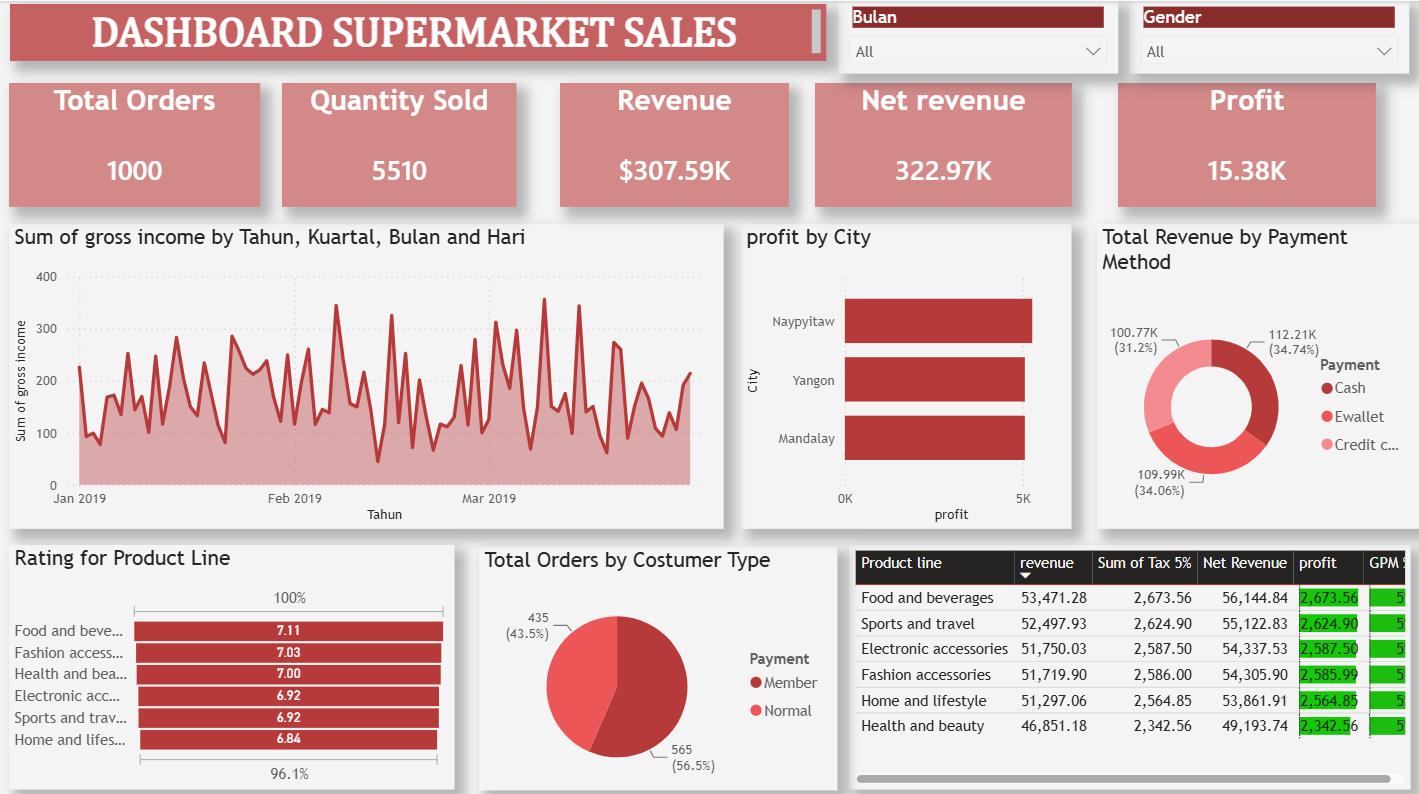

This screenshot's page, from the dashboard's own definition file:
{"tool":"powerbi","page":{"name":"Halaman 1","canvas":[1280,720],"ordinal":0},"visuals":[{"type":"tableEx","fields":{"Values":["SuperMarket Analysis (2).Product line","SuperMarket Analysis (2).revenue","Sum(SuperMarket Analysis (2).Tax 5%)","SuperMarket Analysis (2).Net Revenue","SuperMarket Analysis (2).profit","SuperMarket Analysis (2).GPM %"]},"box":[763.8,487.5,502.5,218.8],"z":0},{"type":"pieChart","title":"Total Orders by Costumer Type","fields":{"Category":["SuperMarket Analysis (2).Customer type"],"Y":["CountNonNull(SuperMarket Analysis (2).Invoice ID)"]},"box":[432.5,488.8,321.2,217.5],"z":1000},{"type":"clusteredBarChart","fields":{"Category":["SuperMarket Analysis (2).City"],"Y":["SuperMarket Analysis (2).profit"]},"box":[667.5,200,296.2,272.5],"z":2000},{"type":"areaChart","fields":{"Y":["Sum(SuperMarket Analysis (2).gross income)"],"Category":["SuperMarket Analysis (2).Date.Variasi.Hierarki Tanggal.Tahun","SuperMarket Analysis (2).Date.Variasi.Hierarki Tanggal.Kuartal","SuperMarket Analysis (2).Date.Variasi.Hierarki Tanggal.Bulan","SuperMarket Analysis (2).Date.Variasi.Hierarki Tanggal.Hari"]},"box":[11.2,200,640,272.5],"z":3000},{"type":"funnel","title":"Rating for Product Line","fields":{"Category":["SuperMarket Analysis (2).Product line"],"Y":["Avg(SuperMarket Analysis (2).Rating)"]},"box":[11.2,487.5,398.8,218.8],"z":4000},{"type":"donutChart","title":"Total Revenue by Payment Method","fields":{"Category":["SuperMarket Analysis (2).Payment"],"Y":["Sum(SuperMarket Analysis (2).Sales)"]},"box":[986.2,200,288.8,272.5],"z":5000},{"type":"cardVisual","title":"Total Orders","fields":{"Data":["CountNonNull(SuperMarket Analysis (2).Invoice ID)"]},"box":[11.2,73.8,225,111.2],"z":6000},{"type":"cardVisual","title":"Quantity Sold","fields":{"Data":["Sum(SuperMarket Analysis (2).Quantity)"]},"box":[256.2,73.8,210,111.2],"z":7000},{"type":"cardVisual","title":"Revenue","fields":{"Data":["SuperMarket Analysis (2).revenue"]},"box":[505,73.8,205,111.2],"z":8000},{"type":"cardVisual","title":"Net revenue","fields":{"Data":["SuperMarket Analysis (2).Net Revenue"]},"box":[733.8,73.8,230,111.2],"z":9000},{"type":"cardVisual","title":"Profit","fields":{"Data":["SuperMarket Analysis (2).profit"]},"box":[1005,73.8,231.2,111.2],"z":10000},{"type":"slicer","fields":{"Values":["SuperMarket Analysis (2).Gender"]},"box":[1015,0,251.2,65],"z":11000},{"type":"slicer","title":"Date","fields":{"Values":["SuperMarket Analysis (2).Date.Variasi.Hierarki Tanggal.Bulan"]},"box":[753.8,0,251.2,65],"z":12000},{"type":"textbox","box":[12.5,2.5,731.2,51.2],"z":13000}]}

Visuals, with their boxes in screenshot pixels (x1, y1, x2, y2), scaled from the page's 1280x720 canvas onto the 1419x794 screenshot:
tableEx - SuperMarket Analysis (2).Product line x SuperMarket Analysis (2).revenue: [847,538,1404,779]
"Total Orders by Costumer Type" pieChart: [479,539,836,779]
clusteredBarChart - SuperMarket Analysis (2).City x SuperMarket Analysis (2).profit: [740,221,1068,521]
areaChart - Sum(SuperMarket Analysis (2).gross income) x SuperMarket Analysis (2).Date.Variasi.Hierarki Tanggal.Tahun: [12,221,722,521]
"Rating for Product Line" funnel: [12,538,455,779]
"Total Revenue by Payment Method" donutChart: [1093,221,1413,521]
"Total Orders" cardVisual: [12,81,262,204]
"Quantity Sold" cardVisual: [284,81,517,204]
"Revenue" cardVisual: [560,81,787,204]
"Net revenue" cardVisual: [813,81,1068,204]
"Profit" cardVisual: [1114,81,1370,204]
slicer - SuperMarket Analysis (2).Gender: [1125,0,1404,72]
"Date" slicer: [836,0,1114,72]
textbox: [14,3,824,59]
